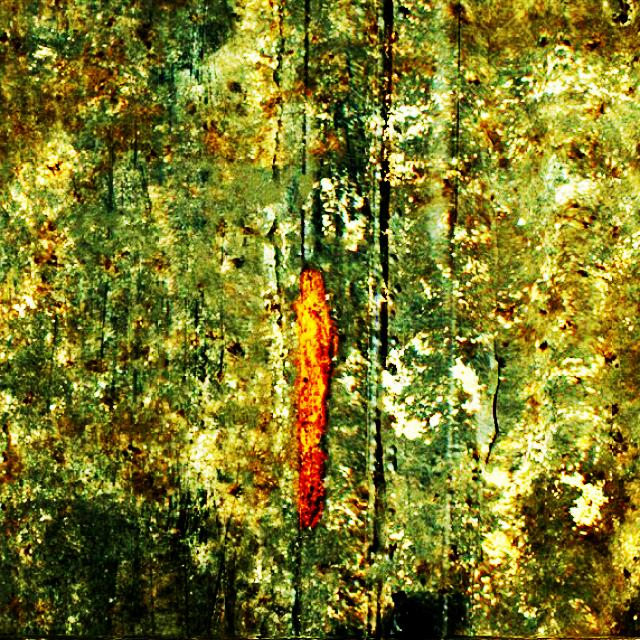Corrosion: (298, 271, 332, 528)
